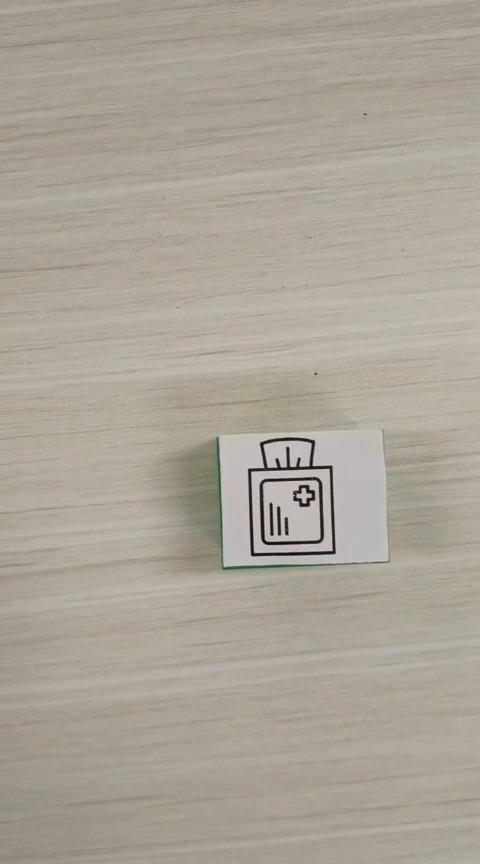Gauze: (215, 427, 389, 569)
